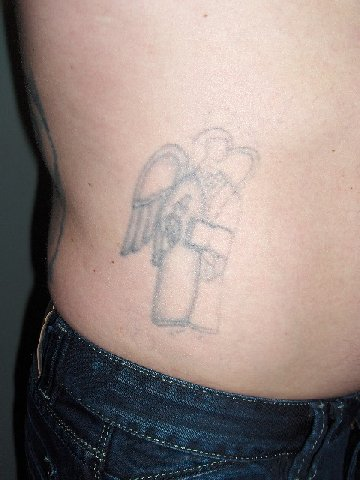tatu1_angel: (116, 114, 271, 341)
